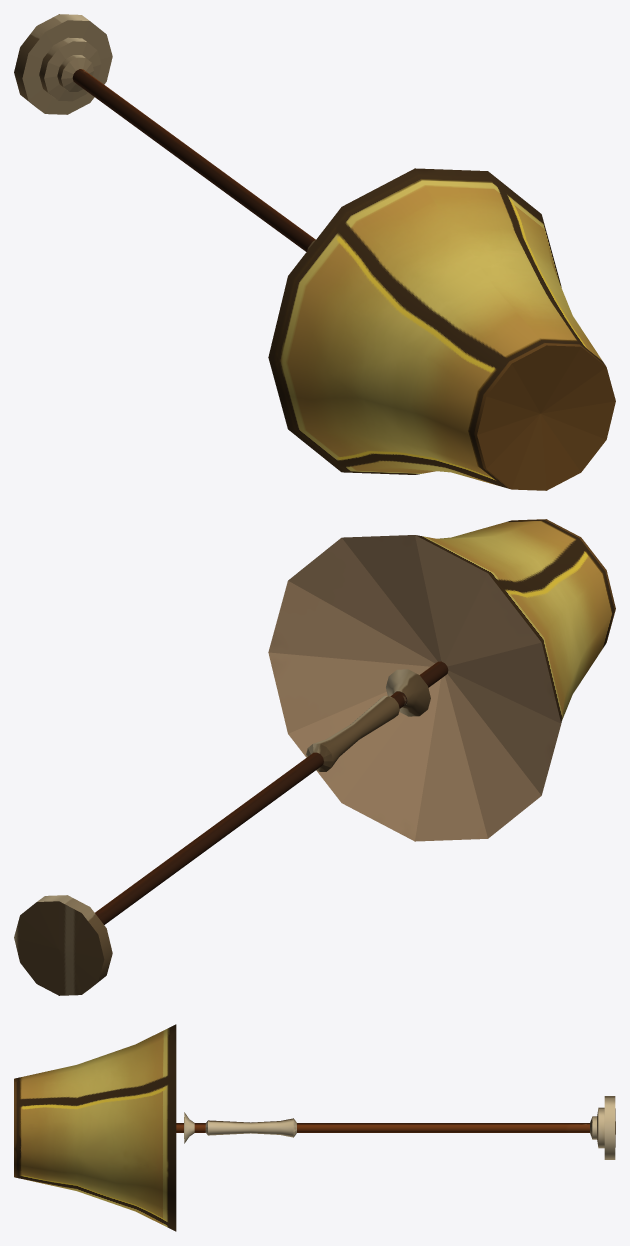
File: W009_0100_Skin.FBX
The picture shows the model from 3 angles, top to bottom: view 1: azimuth 30°, elevation 25°; view 2: azimuth 150°, elevation 25°; view 3: azimuth 270°, elevation 25°; orthographic projection. The views are drawn at different scales.
Visible parts, largest first — view 1: W009; view 2: W009; view 3: W009.
Part boxes in pixels (x1=…): W009: x1=14, y1=14, x2=615, y2=490; W009: x1=14, y1=519, x2=615, y2=995; W009: x1=14, y1=1024, x2=615, y2=1231.
Bounding box in the file's own units: 52.88 × 52.88 × 153.
